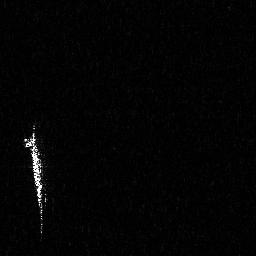ship: (23, 120, 49, 246)
